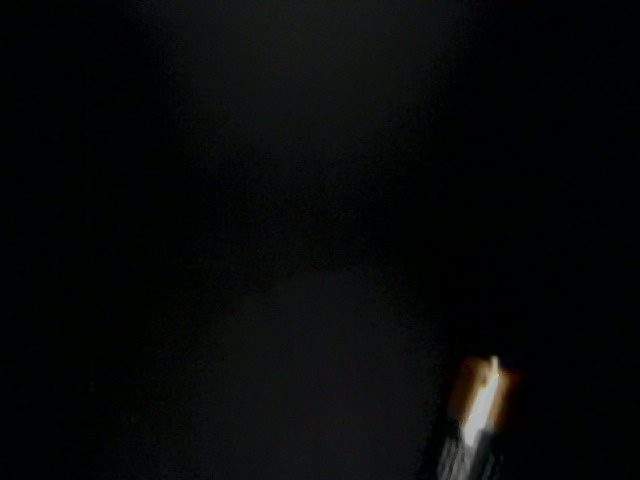QTLJ: (52, 330, 210, 477)
